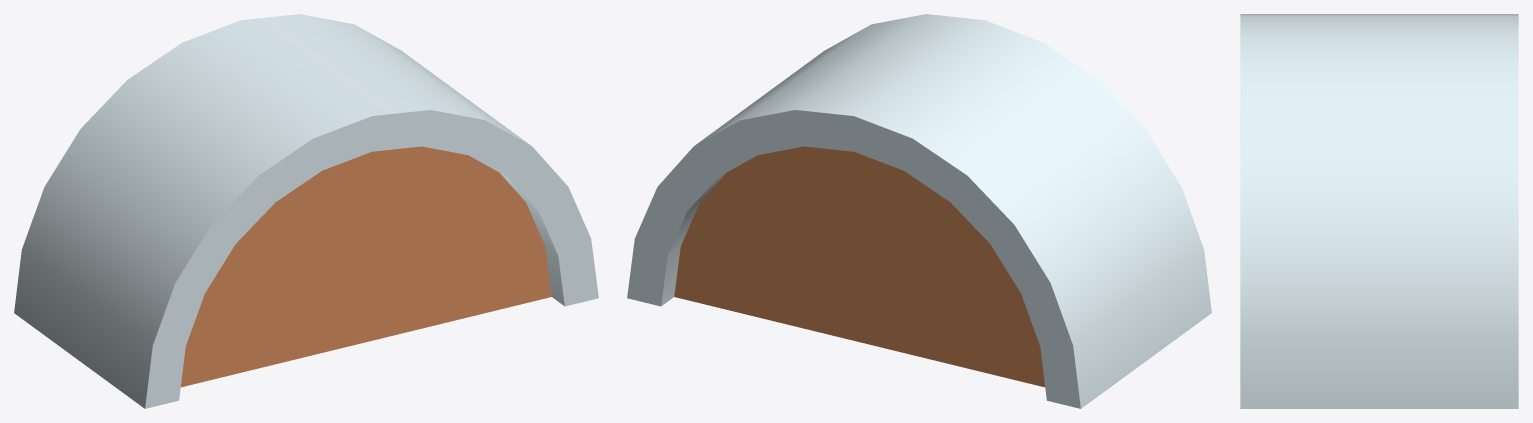
The model's file is blockSnowCurve.fbx.
3 renders of one model, left to right at view 1: azimuth 30°, elevation 25°; view 2: azimuth 150°, elevation 25°; view 3: azimuth 270°, elevation 25°, orthographic. The views are drawn at different scales.
Parts seen in each view (by area): view 1: blockSnowCurve; view 2: blockSnowCurve; view 3: blockSnowCurve.
Boxes of the visible parts, x1,y1,x2,y2 form: blockSnowCurve: [14, 14, 598, 408]; blockSnowCurve: [627, 14, 1211, 408]; blockSnowCurve: [1240, 14, 1518, 408].
Bounding box in the file's own units: 20 × 10 × 10.
